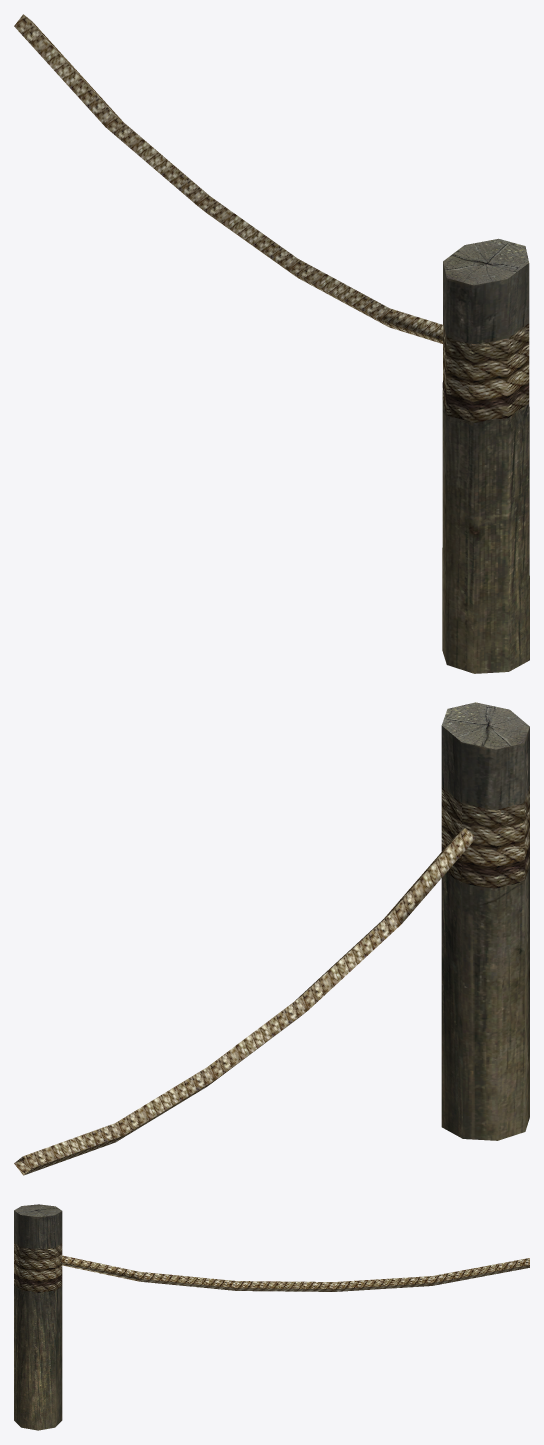
Rendered from fortms_pier_pillar02.fbx.
3 renders of one model, top to bottom at view 1: azimuth 30°, elevation 25°; view 2: azimuth 150°, elevation 25°; view 3: azimuth 270°, elevation 25°, orthographic. The views are drawn at different scales.
Visible parts, largest first — view 1: fortMS_pier_pillar02; view 2: fortMS_pier_pillar02; view 3: fortMS_pier_pillar02.
Boxes of the visible parts, x1=… form: fortMS_pier_pillar02: x1=14, y1=14, x2=529, y2=673; fortMS_pier_pillar02: x1=14, y1=702, x2=529, y2=1175; fortMS_pier_pillar02: x1=14, y1=1204, x2=529, y2=1430.
Bounding box in the file's own units: 0.4759 × 2.32 × 5.07.
